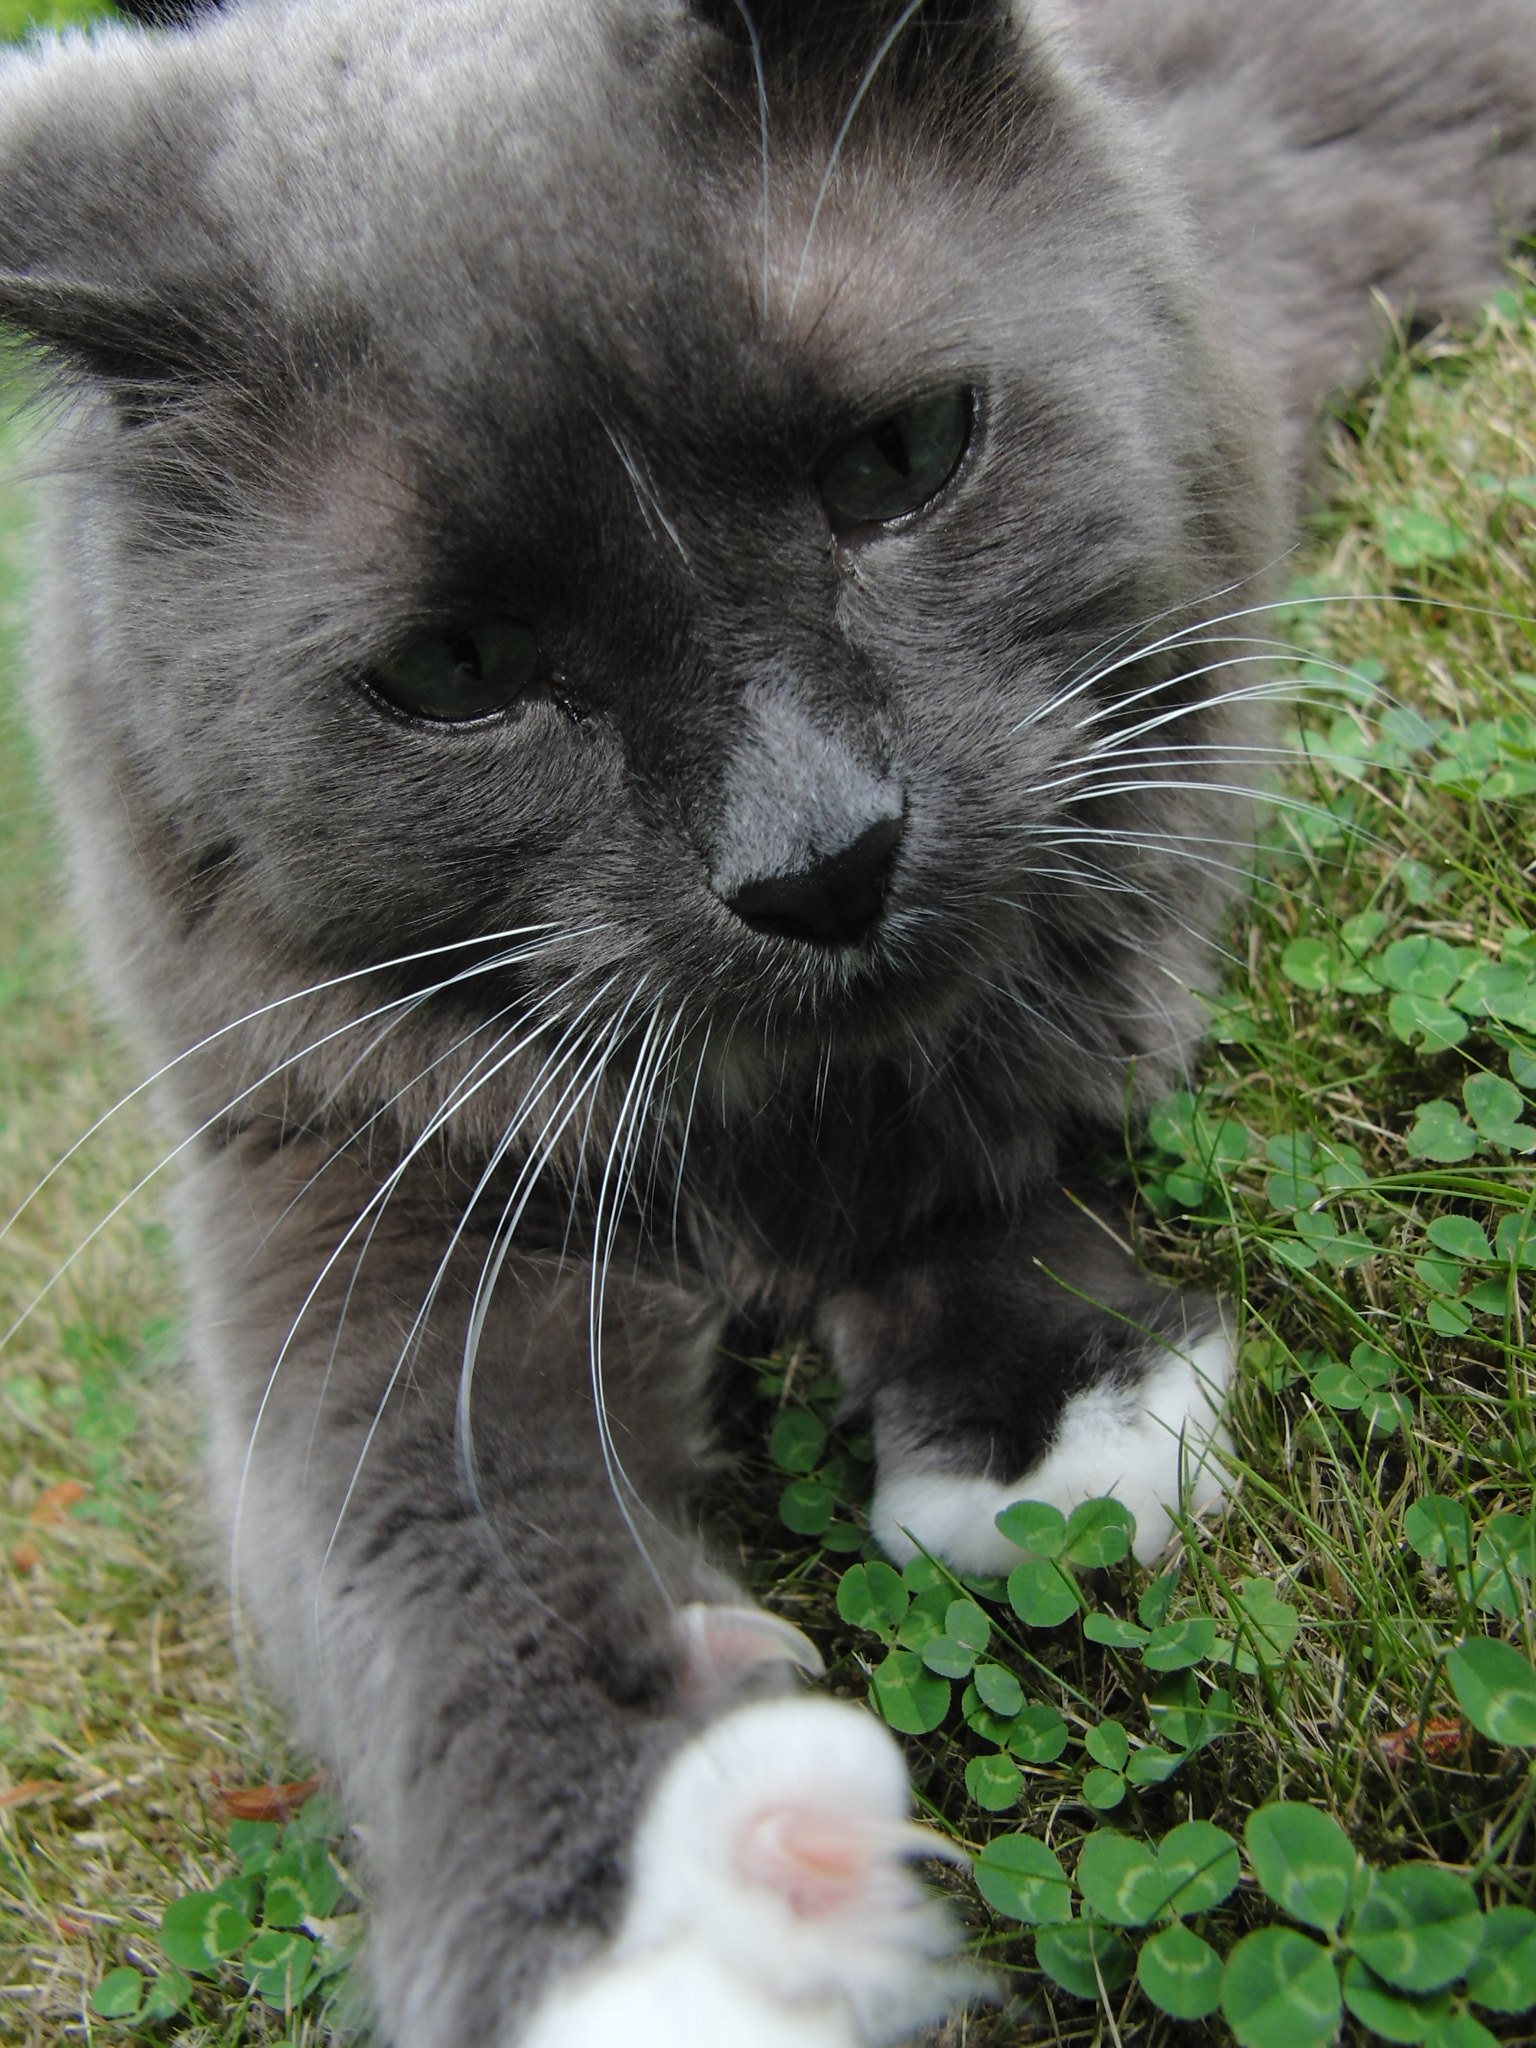cat: (61, 2, 1478, 1977)
